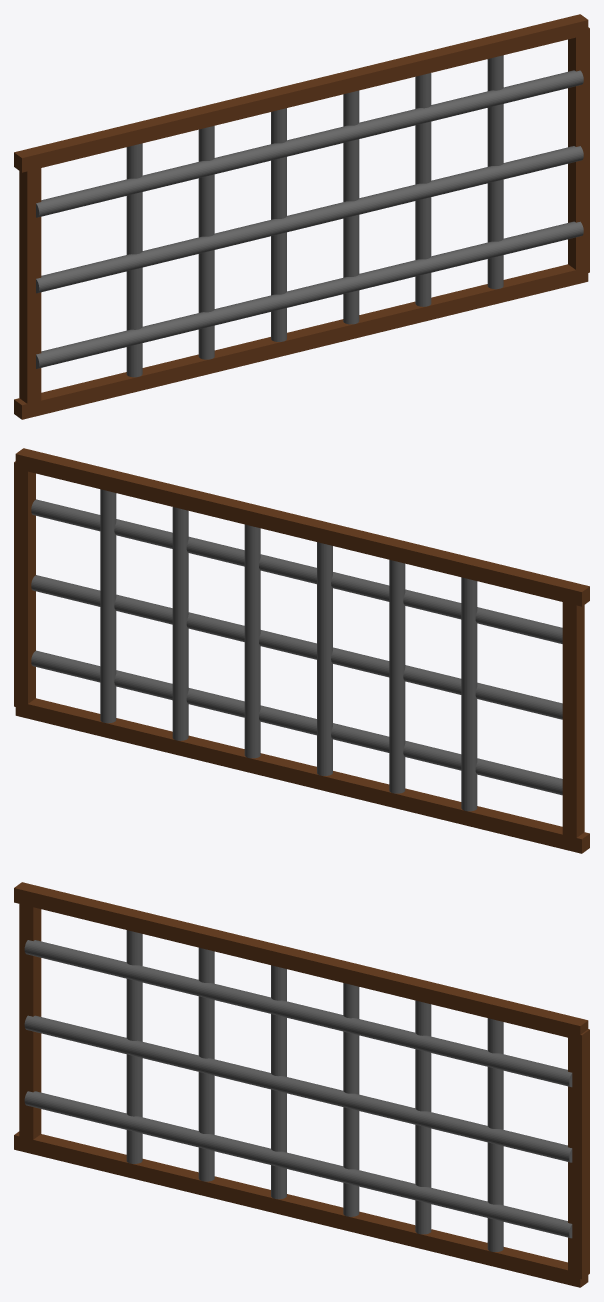
The model's file is des_barreaux_fait_en_despi.fbx.
3 renders of one model, top to bottom at view 1: azimuth 30°, elevation 25°; view 2: azimuth 150°, elevation 25°; view 3: azimuth 330°, elevation 25°, orthographic.
Parts seen in each view (by area): view 1: Cylindre.001, Cylindre, Cube.001, Cube, Cube.002, Cube.003; view 2: Cylindre, Cylindre.001, Cube.001, Cube, Cube.002, Cube.003; view 3: Cylindre.001, Cylindre, Cube.001, Cube, Cube.003, Cube.002.
Part boxes in pixels (<box>): Cylindre.001: <box>36,70,583,368</box>; Cylindre: <box>126,55,503,377</box>; Cube.001: <box>14,14,588,172</box>; Cube: <box>14,264,588,419</box>; Cube.002: <box>19,162,41,409</box>; Cube.003: <box>568,27,589,274</box>; Cylindre: <box>100,489,477,811</box>; Cylindre.001: <box>31,499,562,795</box>; Cube.001: <box>15,448,589,606</box>; Cube: <box>15,698,589,853</box>; Cube.002: <box>562,602,584,843</box>; Cube.003: <box>14,461,35,709</box>; Cylindre.001: <box>24,940,572,1238</box>; Cylindre: <box>126,930,503,1251</box>; Cube.001: <box>14,882,588,1040</box>; Cube: <box>14,1131,588,1287</box>; Cube.003: <box>568,1029,589,1279</box>; Cube.002: <box>19,904,41,1144</box>.
Bounding box in the file's own units: 8178 × 3600 × 282.
